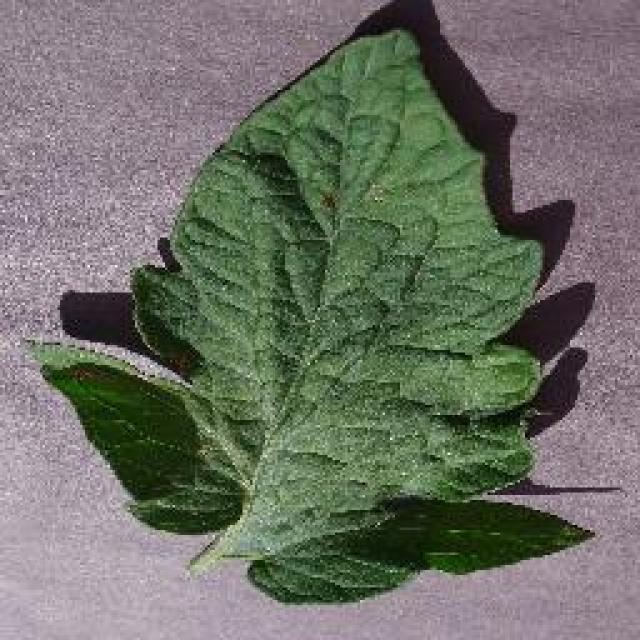Tomato Septoria spot leaf: (29, 24, 591, 611)
